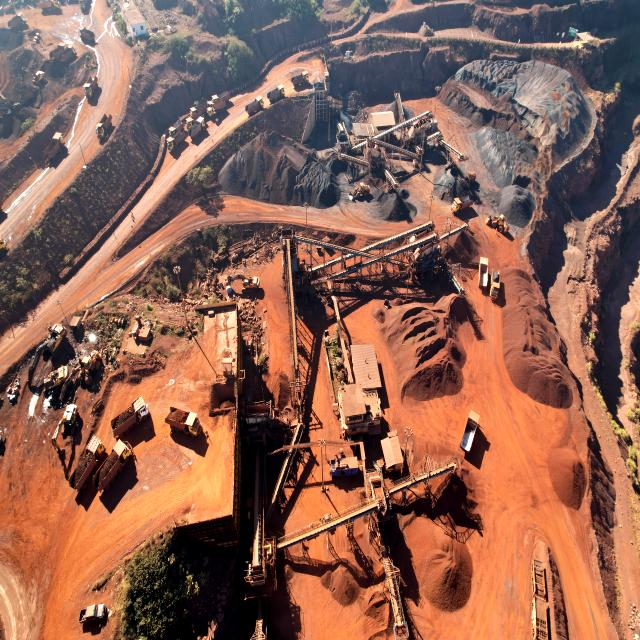Dumper truck: (99, 439, 130, 486), (113, 396, 147, 434), (168, 409, 199, 435), (170, 411, 199, 436), (463, 412, 480, 454), (463, 412, 478, 454), (46, 133, 65, 158), (46, 134, 64, 156), (479, 256, 489, 294), (452, 199, 474, 216), (455, 202, 477, 217), (96, 118, 110, 139), (95, 117, 108, 139), (40, 0, 60, 14), (268, 84, 285, 100), (189, 101, 206, 117), (246, 97, 264, 112), (167, 135, 186, 149), (43, 0, 62, 14), (292, 71, 308, 87), (188, 118, 204, 134), (270, 83, 286, 99), (175, 117, 192, 132), (168, 133, 187, 146), (269, 85, 286, 99), (169, 122, 186, 136), (42, 1, 60, 14), (206, 104, 222, 118), (208, 102, 224, 116), (192, 104, 208, 118), (210, 93, 227, 106), (170, 121, 187, 134), (95, 120, 107, 138), (84, 75, 96, 93), (86, 72, 98, 90), (211, 94, 229, 106), (187, 118, 202, 132), (54, 43, 69, 57), (59, 44, 74, 58), (190, 104, 204, 119), (184, 118, 199, 132), (9, 15, 25, 28), (208, 97, 225, 109), (492, 284, 502, 304), (492, 279, 501, 301), (79, 27, 93, 41), (190, 104, 205, 117), (491, 279, 500, 300), (172, 120, 186, 133), (205, 104, 219, 117), (10, 15, 23, 29), (84, 77, 94, 95), (83, 76, 93, 94), (189, 115, 205, 126), (464, 198, 477, 211), (82, 32, 94, 46), (0, 242, 7, 261), (0, 240, 6, 257)
Excavator: (29, 324, 66, 385), (46, 356, 76, 404), (52, 404, 79, 456), (234, 273, 251, 287), (32, 70, 46, 86), (243, 275, 259, 288)
car: (80, 604, 105, 623)
person: (130, 210, 134, 218)
